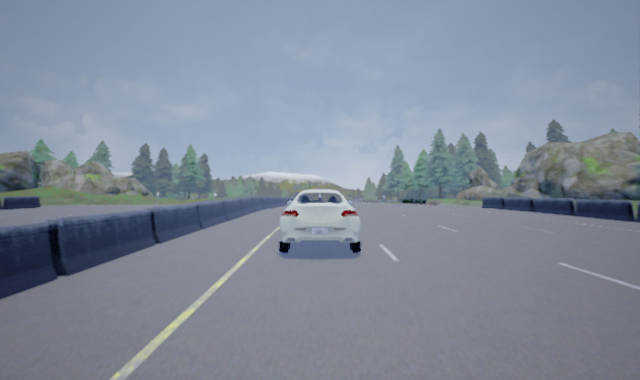vehicle: (278, 188, 360, 253)
